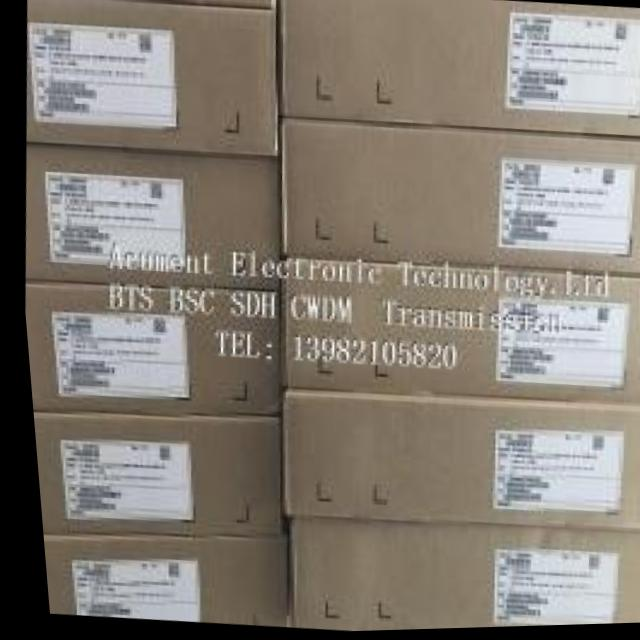box: (276, 120, 640, 279), (272, 262, 640, 408), (276, 392, 640, 533), (278, 0, 640, 140), (24, 0, 276, 160), (278, 522, 640, 632), (20, 147, 275, 292), (20, 280, 274, 417), (26, 409, 272, 538), (35, 538, 275, 625), (117, 0, 277, 12)
